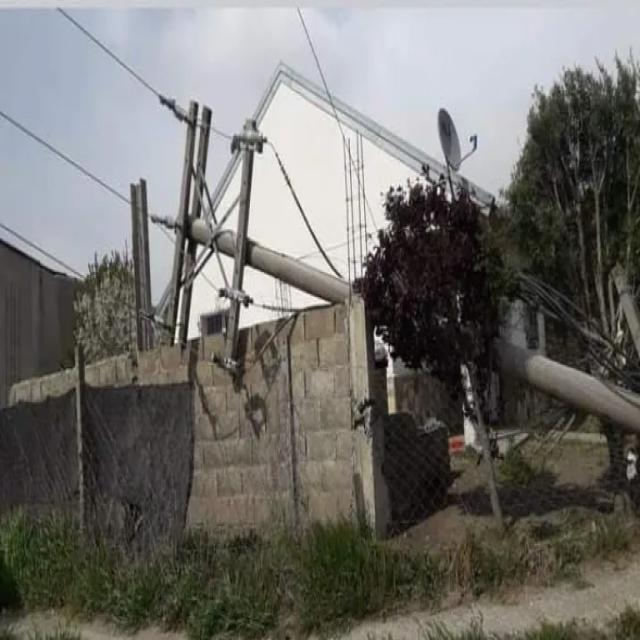Inclined Pole: (126, 83, 640, 432)
